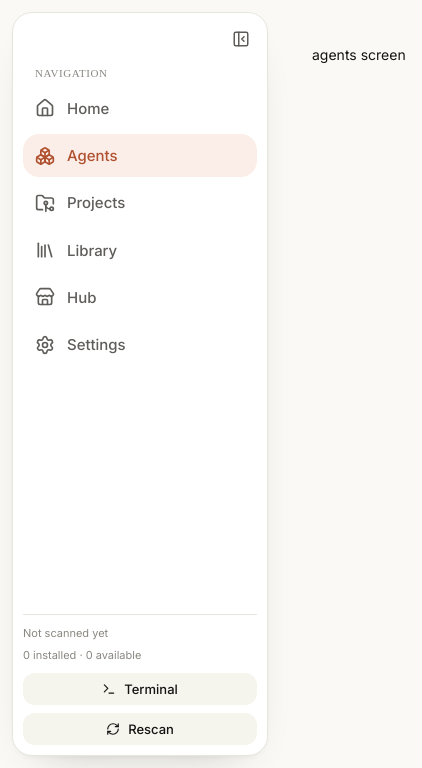
Test case: AppShell › mounts the screen that was asked for instead of waiting for the last one to leave
The image size is (422, 768).
Expected: the text "agents screen" is shown, [312,46,406,63]
Click the link "Library": {"x": 76, "y": 250} [35,240,117,260]
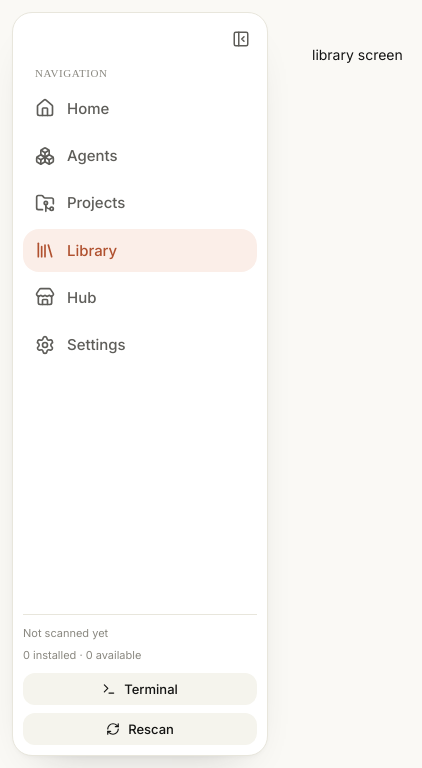
Expected: the text "library screen" is shown, [312,46,403,63]
Expected: the text "agents screen" is gone
